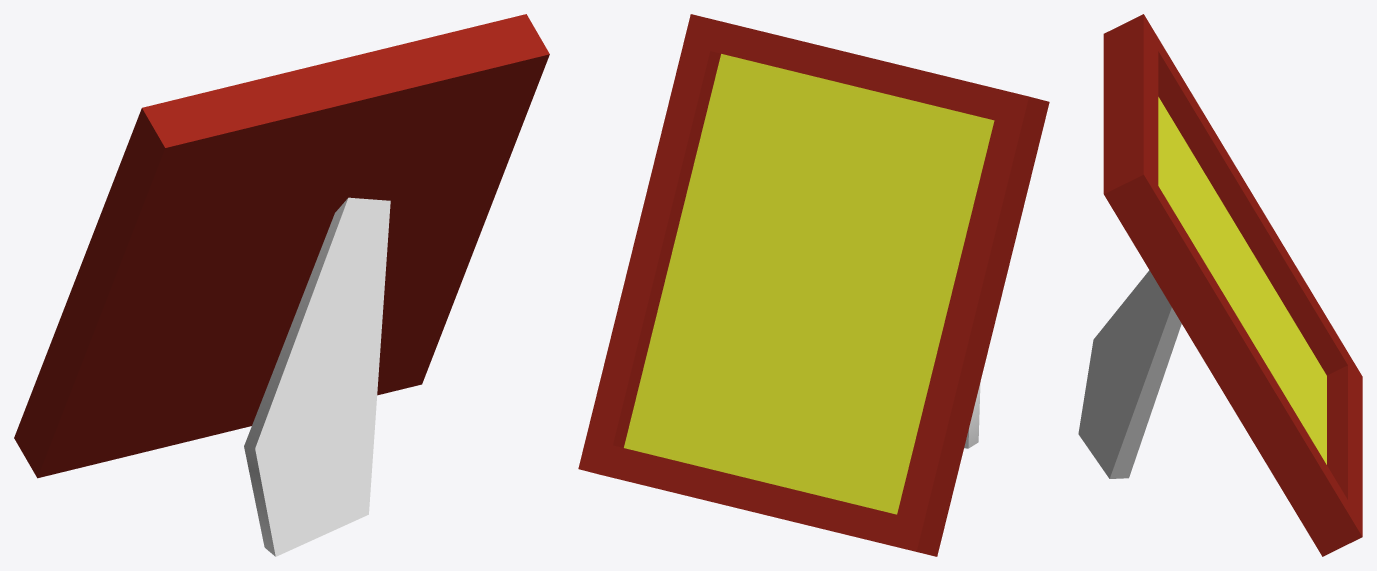
Rendered from SM_Photo_Frame_Desk_01.fbx.
The picture shows the model from 3 angles, left to right: view 1: azimuth 30°, elevation 25°; view 2: azimuth 150°, elevation 25°; view 3: azimuth 270°, elevation 25°; orthographic projection. The views are drawn at different scales.
Visible parts, largest first — view 1: Photo Frame; view 2: Photo Frame; view 3: Photo Frame.
Part boxes in pixels (x1,y1,x2,y2): Photo Frame: (14,14,549,556); Photo Frame: (578,14,1049,556); Photo Frame: (1078,14,1362,556).
Bounding box in the file's own units: 25 × 27.76 × 18.7.
